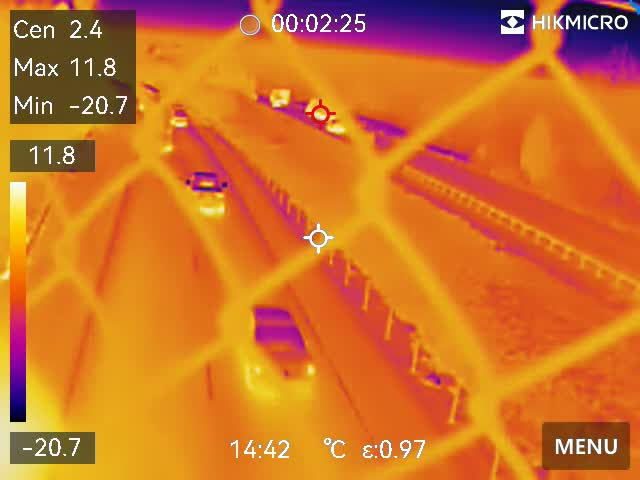heavyTruck: (302, 97, 338, 121)
vehicle: (243, 298, 320, 390), (182, 162, 230, 226), (259, 87, 292, 108), (168, 98, 187, 130)
